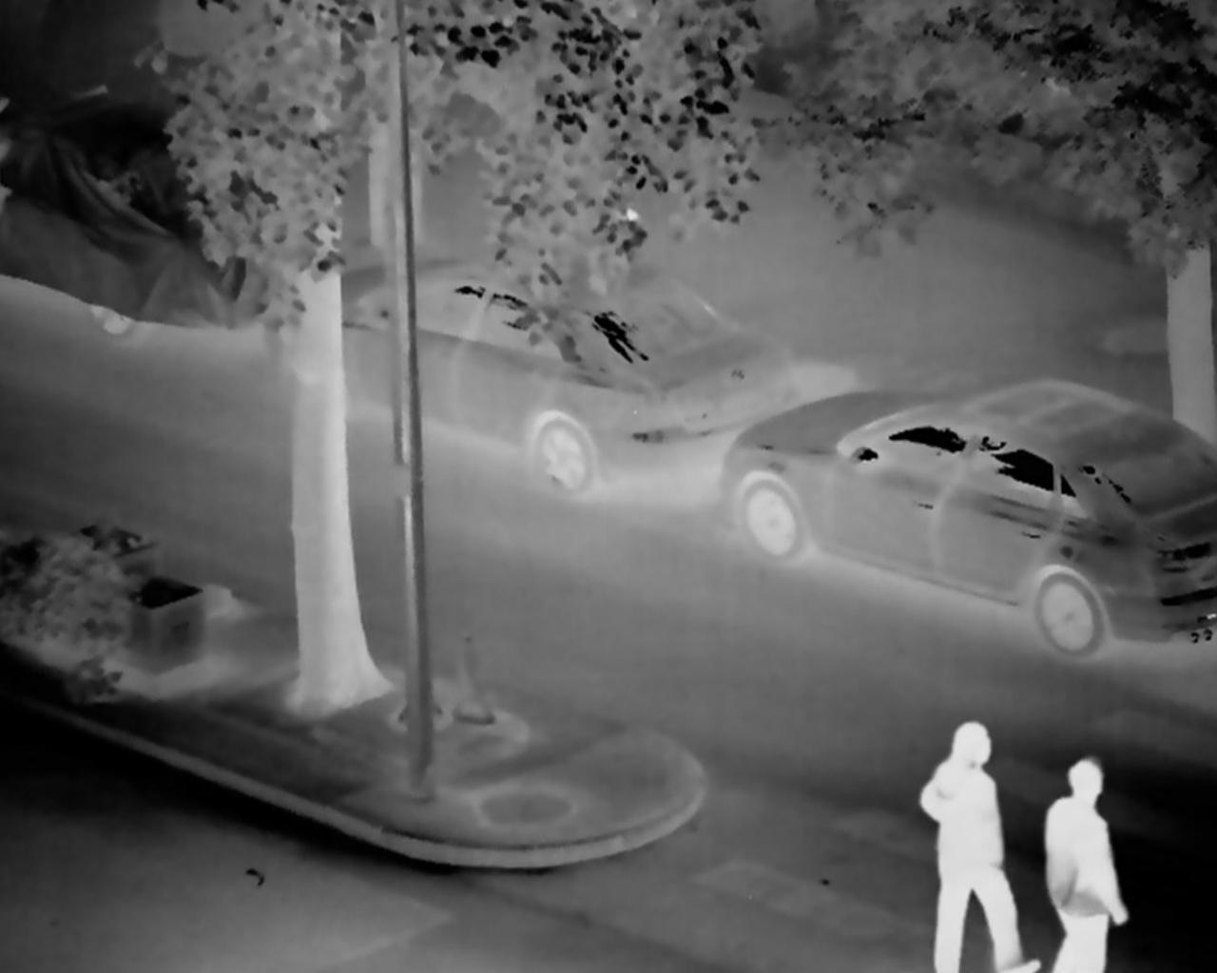person: (919, 715, 1040, 973), (1045, 757, 1128, 973)
